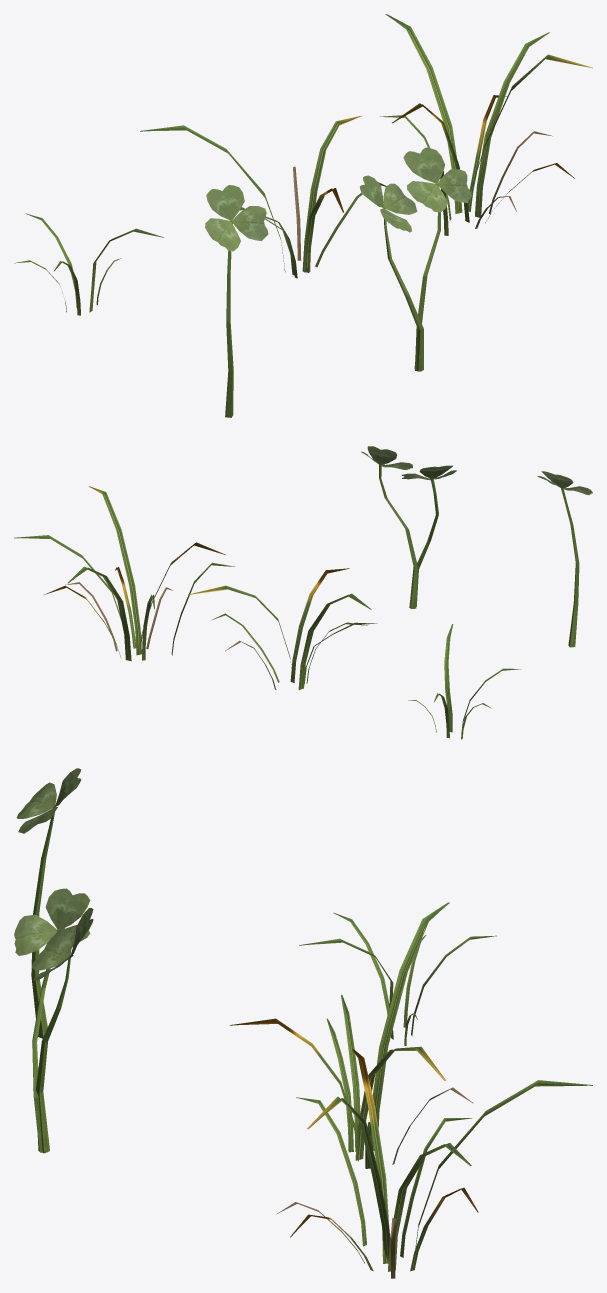
File: runtime-ground-plants.glb
3 renders of one model, top to bottom at view 1: azimuth 30°, elevation 25°; view 2: azimuth 150°, elevation 25°; view 3: azimuth 270°, elevation 25°, orthographic. The views are drawn at different scales.
Visible parts, largest first — view 1: Clover 2, Grass 3, Clover 1, Grass 2, Grass 1; view 2: Grass 3, Grass 2, Clover 2, Clover 1, Grass 1; view 3: Grass 3, Clover 2, Grass 2, Clover 1, Grass 1.
Part boxes in pixels (bbox=[...]): Clover 2: bbox=[360, 147, 471, 371]; Grass 3: bbox=[380, 14, 592, 235]; Clover 1: bbox=[205, 185, 268, 417]; Grass 2: bbox=[140, 115, 386, 278]; Grass 1: bbox=[14, 213, 163, 315]; Grass 3: bbox=[14, 486, 235, 661]; Grass 2: bbox=[188, 568, 377, 689]; Clover 2: bbox=[361, 446, 456, 608]; Clover 1: bbox=[537, 471, 592, 647]; Grass 1: bbox=[408, 624, 521, 739]; Grass 3: bbox=[276, 1049, 592, 1278]; Clover 2: bbox=[14, 888, 93, 1153]; Grass 2: bbox=[230, 902, 473, 1168]; Clover 1: bbox=[16, 768, 81, 1038]; Grass 1: bbox=[299, 912, 496, 1045].
Bounding box in the file's own units: 8.75 × 3.27 × 6.43.
1 material, 1 textured.
